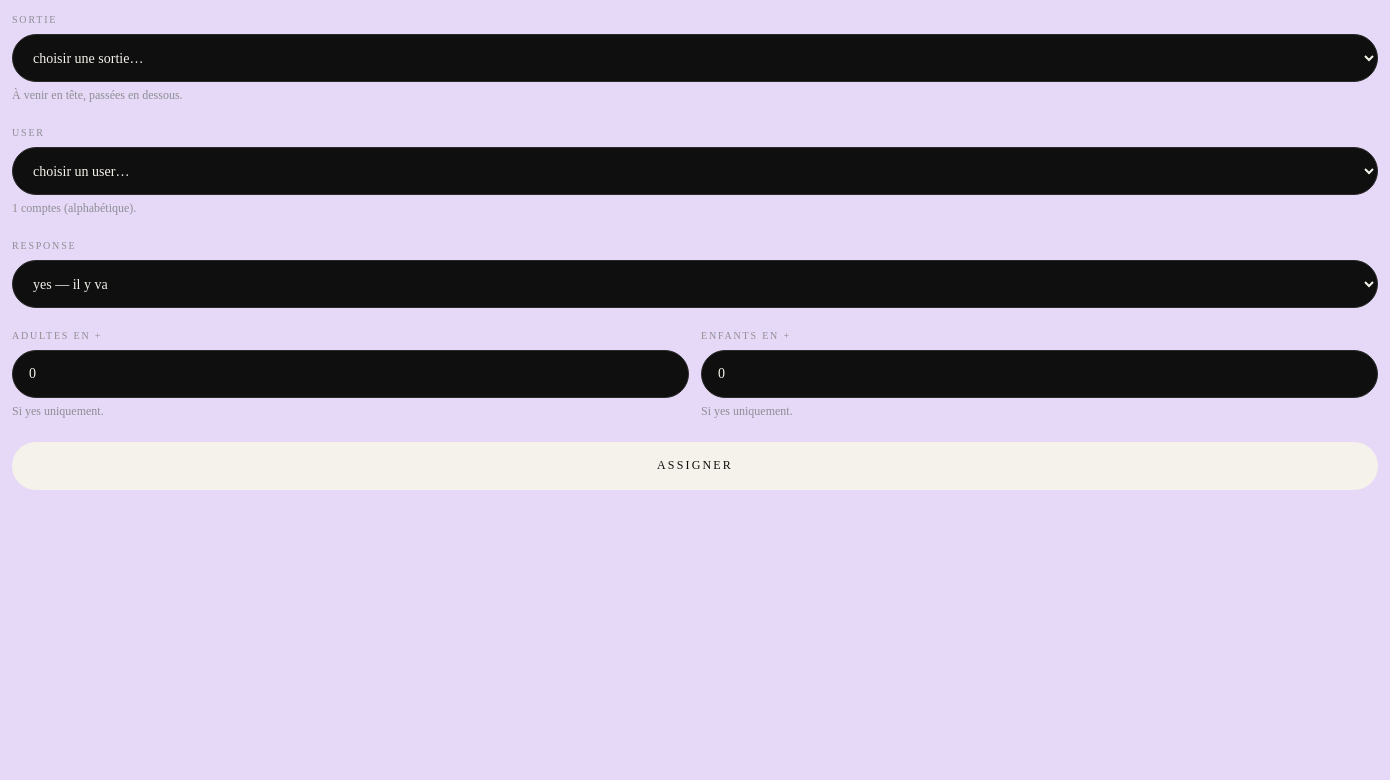
Test: AssignForm › pré-remplit la réponse et le +1 existants sur une sortie datée
Select "Sortie datée — 25 nov. 2026" in the dropdown labelled "sortie À venir en tête, passées en dessous.": point(695, 58) [12,34,1378,82]
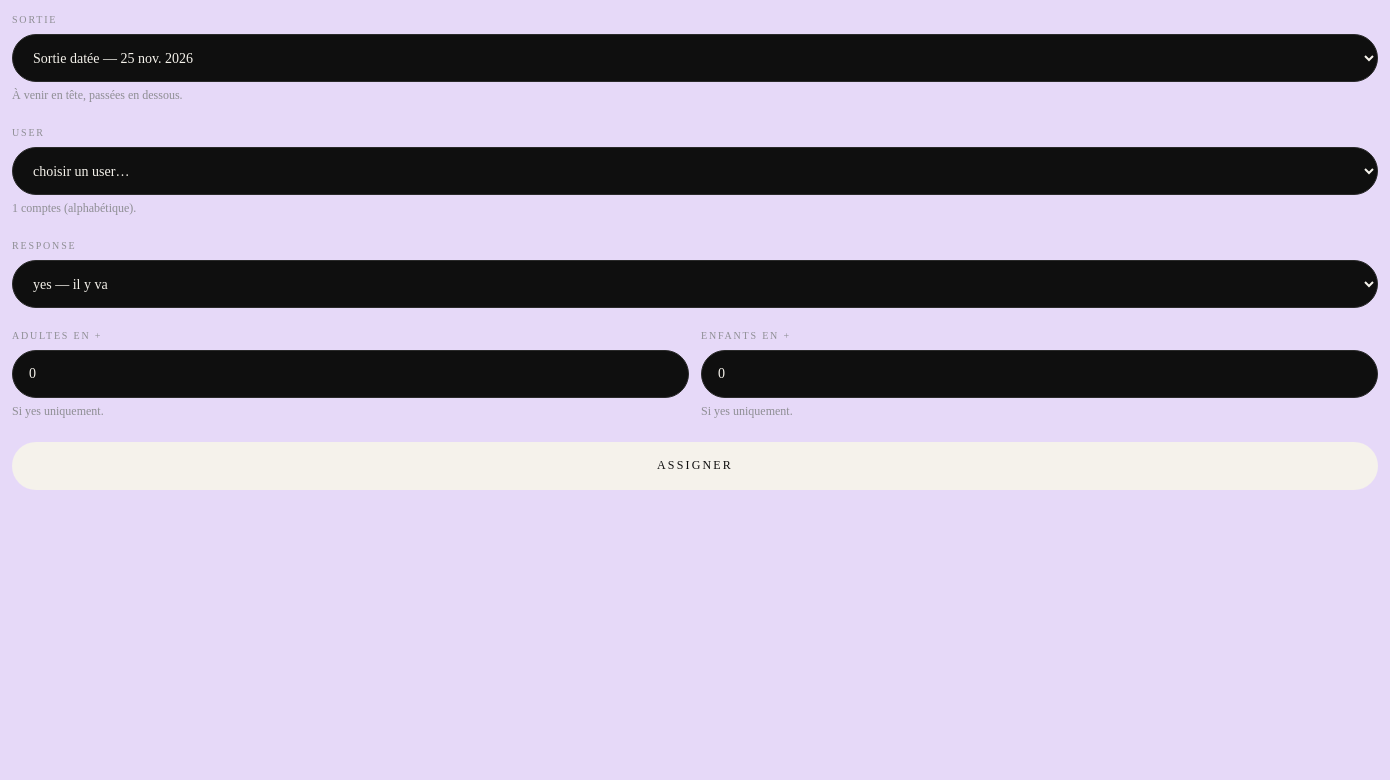
Select "Yves — yves@example.com" in the dropdown labelled "user 1 comptes (alphabétique).": point(695, 171) [12,147,1378,195]
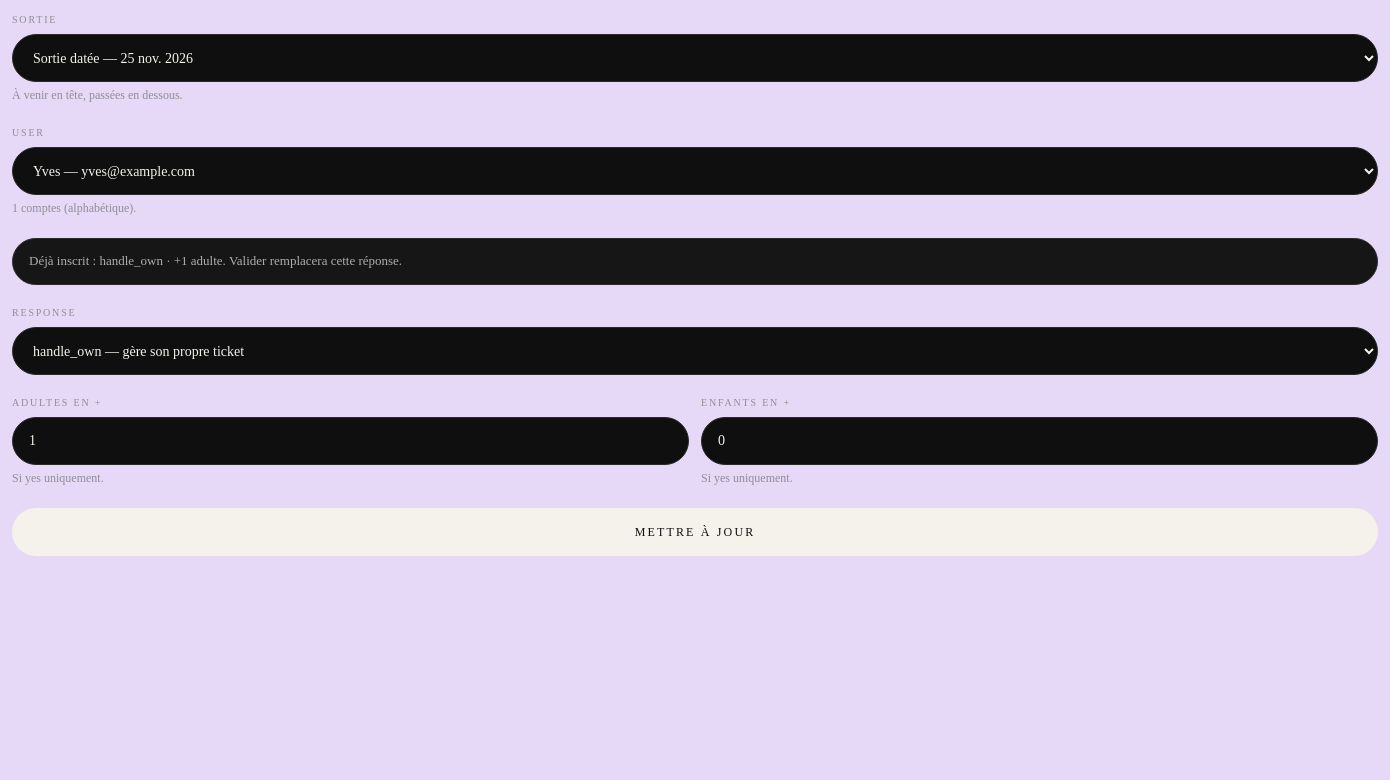
Result: the text "Déjà inscrit : handle_own · +1 adulte. Valider remplacera cette réponse." is shown at [12,238,1378,285]
Result: the dropdown named "response" shows "handle_own — gère son propre ticket" at [12,327,1378,375]
Result: the number field named "extraAdults" holds "1" at [12,417,689,465]
